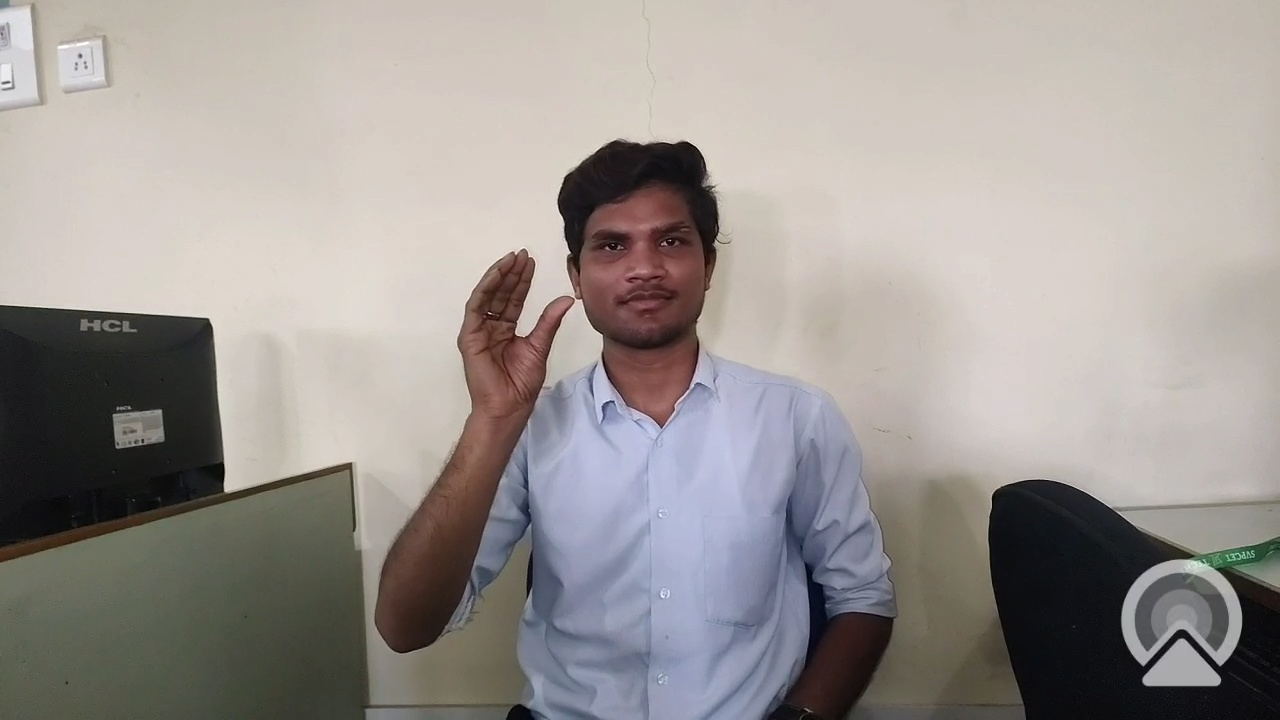No: (426, 237, 584, 429)
